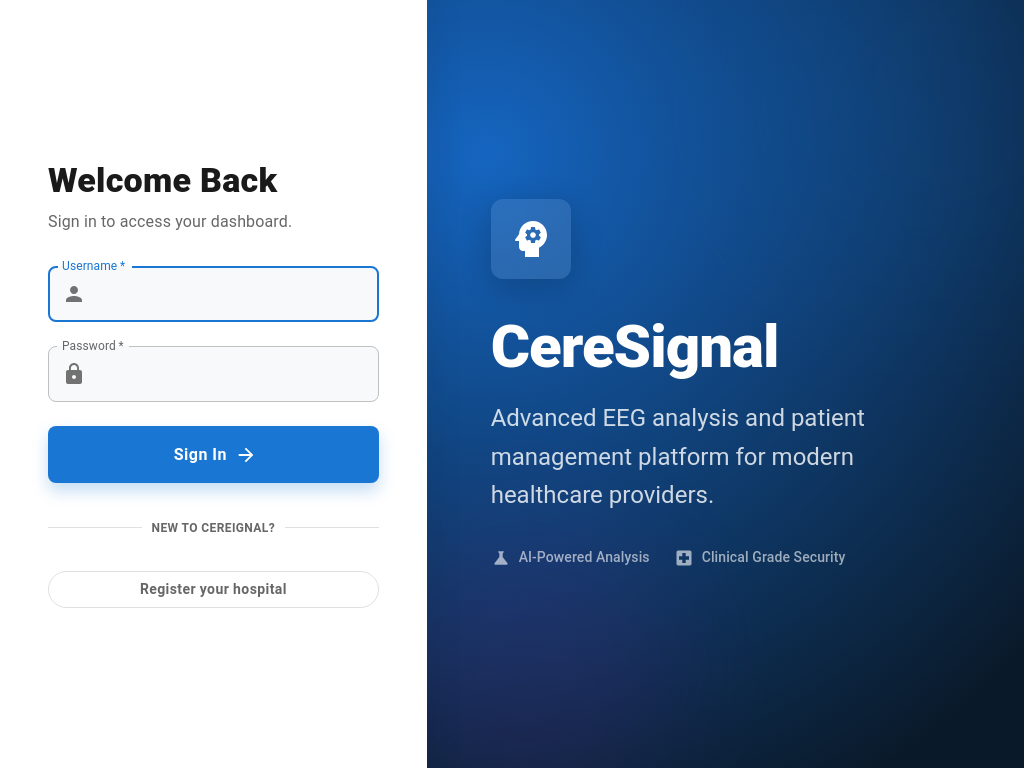
submitting valid credentials › falls back to a generic message when the server explains nothing
This screenshot has width=1024, height=768.
Type "doctor_a" into the field labelled "Username *" at [236, 294], box [94,266,379,322]
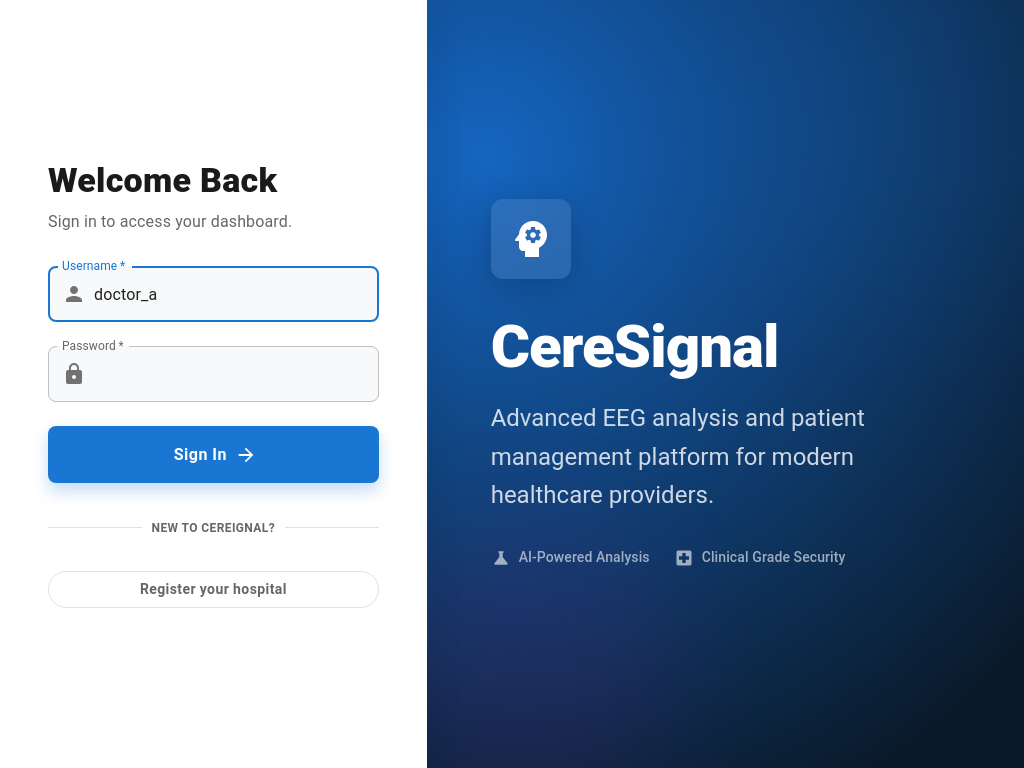
Type "testpass123" into the password field labelled "Password *" at [236, 374], box [94,346,379,402]
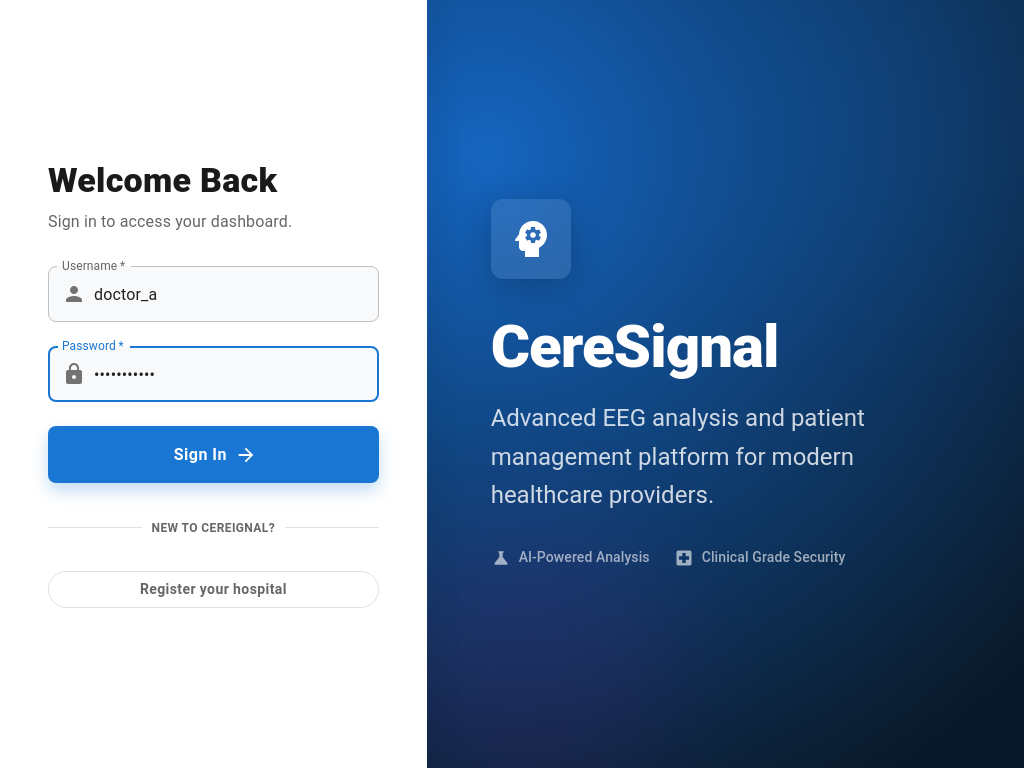
Click the button "Sign In" at [213, 455], box [48,426,379,483]
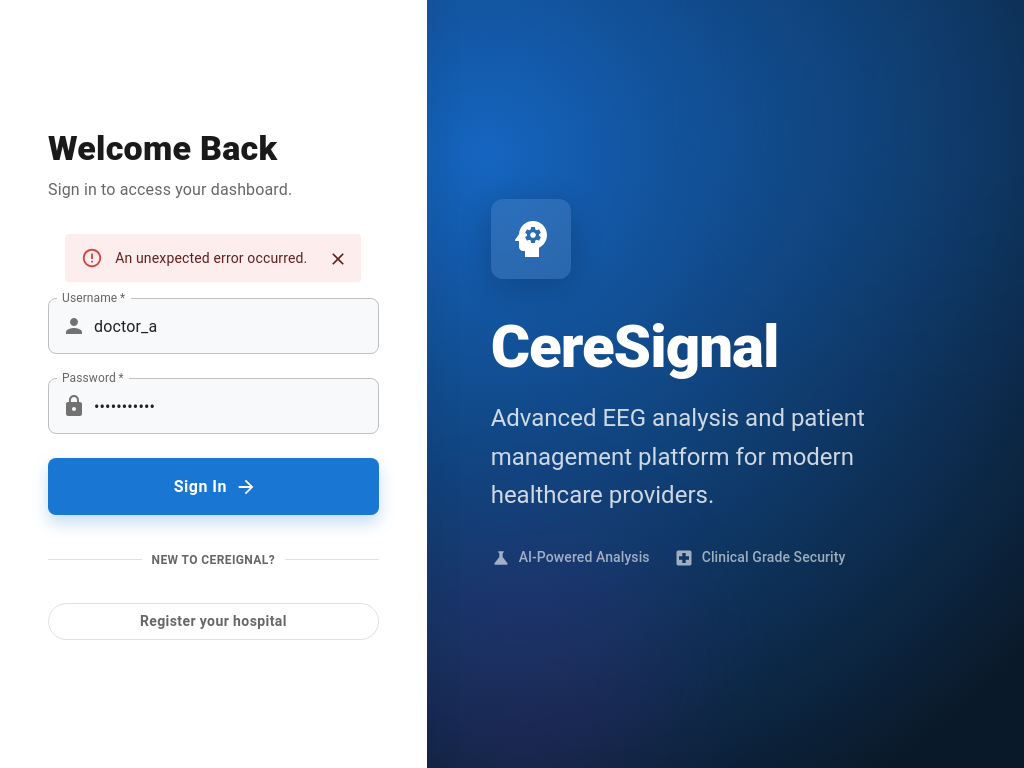
Result: the message shows "unexpected error" at [115,250,307,266]
